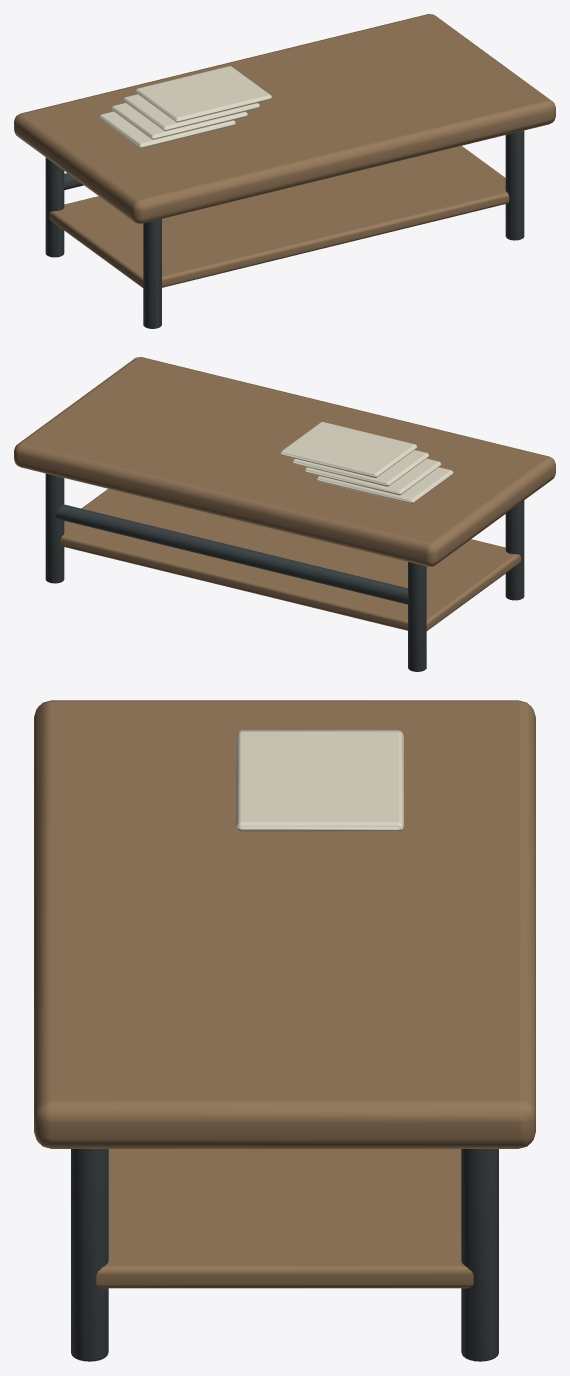
Rendered from P_CoffeeTable.fbx.
3 views of the same model, one above another, from view 1: azimuth 30°, elevation 25°; view 2: azimuth 150°, elevation 25°; view 3: azimuth 270°, elevation 25° (orthographic). The views are drawn at different scales.
Visible parts, largest first — view 1: P_CoffeeTable; view 2: P_CoffeeTable; view 3: P_CoffeeTable.
Part boxes in pixels (x1,y1,x2,y2): P_CoffeeTable: [14, 14, 555, 328]; P_CoffeeTable: [14, 357, 555, 671]; P_CoffeeTable: [34, 700, 535, 1361].
Size of the model in its own units: 1.4 by 0.5215 by 0.72.
